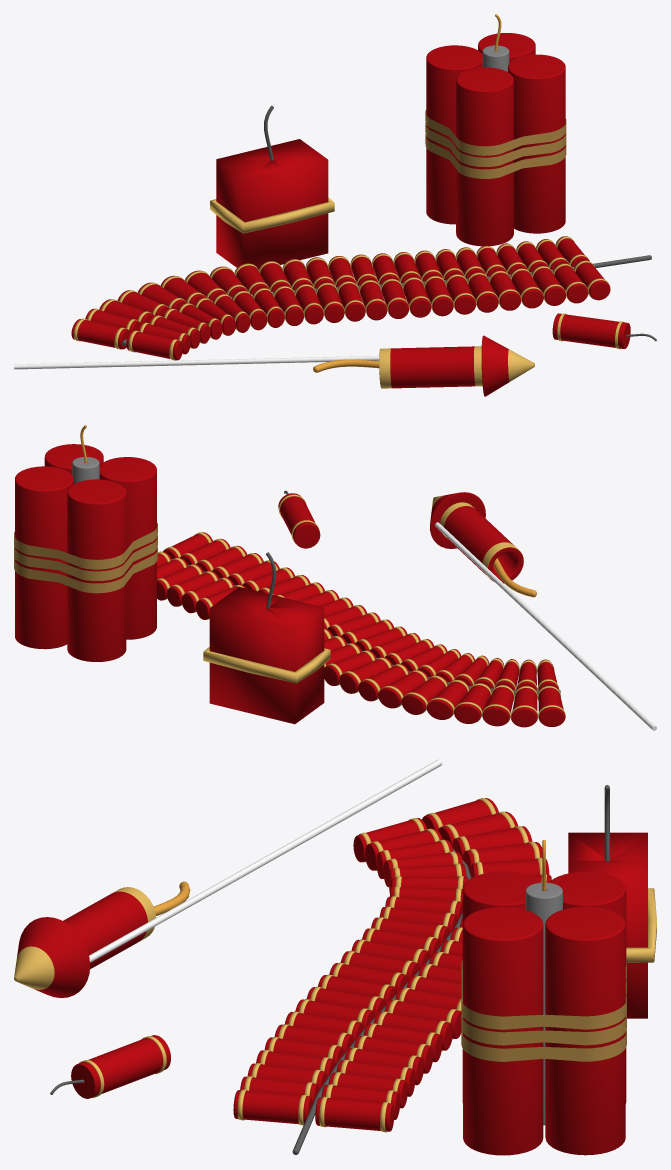
File: Diwali_crackers.glb
3 views of the same model, one above another, from view 1: azimuth 30°, elevation 25°; view 2: azimuth 150°, elevation 25°; view 3: azimuth 270°, elevation 25° (orthographic). The views are drawn at different scales.
Visible parts, largest first — view 1: Cylinder.029, Cylinder.034, Cube.022, Cylinder.027, Cylinder.033, Cylinder.032, Cylinder.031, Cube.021, Cube.025, Cube.023, Cube.024, Cylinder.028 (+1 smaller); view 2: Cylinder.034, Cylinder.029, Cube.022, Cylinder.027, Cylinder.033, Cylinder.032, Cube.021, Cube.024, Cube.023, Cube.025, Cylinder.031, Cylinder.035 (+1 smaller); view 3: Cylinder.029, Cylinder.034, Cylinder.027, Cylinder.033, Cube.022, Cylinder.031, Cylinder.032, Cube.024, Cube.025, Cube.023, Cylinder.028, Cylinder.035 (+2 smaller).
Part boxes in pixels (x1,y1,x2,y2): Cylinder.029: (71,236,610,360); Cylinder.034: (426,33,565,246); Cube.022: (216,139,328,269); Cylinder.027: (73,236,610,360); Cylinder.033: (379,335,509,396); Cylinder.032: (14,355,379,369); Cylinder.031: (552,313,630,348); Cube.021: (210,197,334,233); Cube.025: (425,122,566,167); Cube.023: (425,134,566,178); Cube.024: (425,109,566,155); Cylinder.028: (379,346,534,388); Cylinder.034: (15,444,156,661); Cylinder.029: (157,532,565,727); Cube.022: (209,587,324,724); Cylinder.027: (157,532,565,722); Cylinder.033: (430,492,523,583); Cylinder.032: (435,522,656,730); Cube.021: (203,647,330,683); Cube.024: (14,522,157,569); Cube.023: (14,548,157,593); Cube.025: (14,535,157,580); Cylinder.031: (278,493,320,548); Cylinder.035: (72,457,99,483); Cylinder.029: (233,798,551,1131); Cylinder.034: (462,871,626,1155); Cylinder.027: (237,798,546,1132); Cylinder.033: (16,891,147,997); Cube.022: (568,832,647,1018); Cylinder.031: (71,1035,170,1098); Cylinder.032: (89,759,442,962); Cube.024: (461,960,626,1029); Cube.025: (461,978,626,1045); Cube.023: (461,994,626,1061); Cylinder.028: (14,887,155,989); Cylinder.035: (525,882,562,1125).
Size of the model in its own units: 2.55 by 0.8571 by 1.74.
